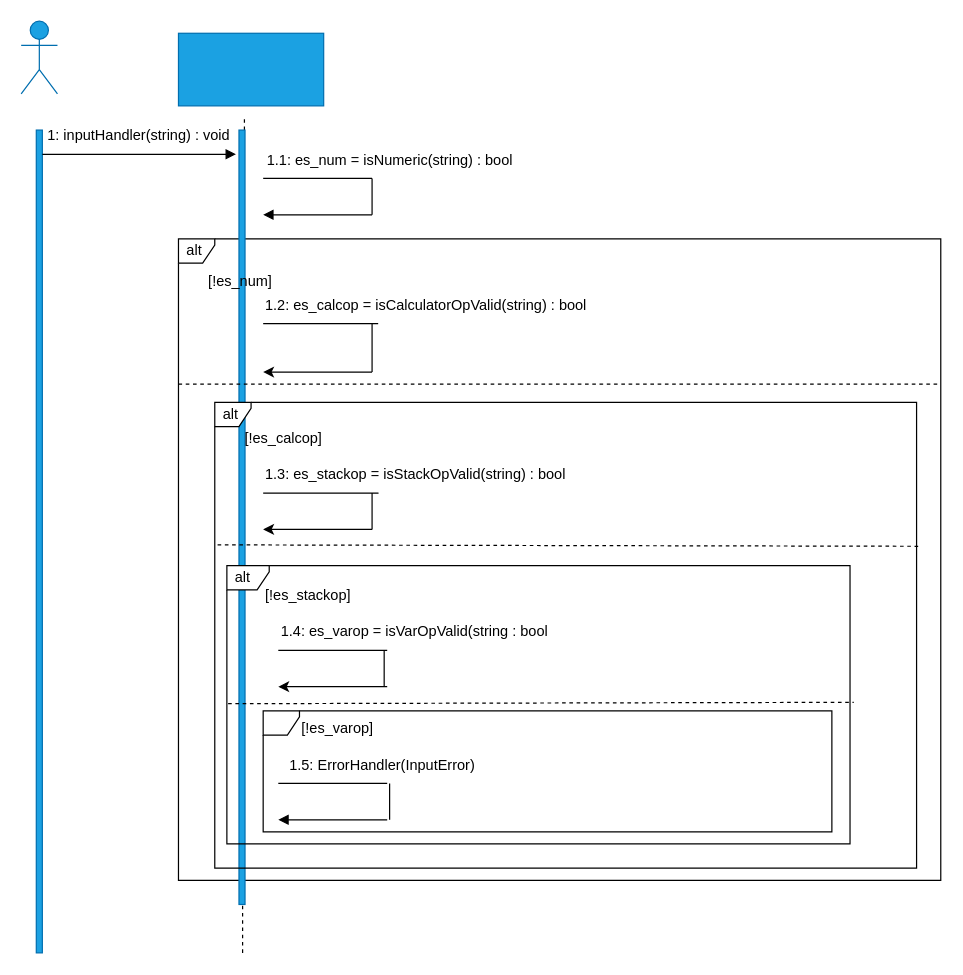
Some shapes in this 963 by 975 pixel diagram are drawn without their labels. Here are the shapes that lost their labels. From the top down, the box of each, then its label:
(177, 32, 324, 106): :Controller
(262, 710, 832, 832): opt
